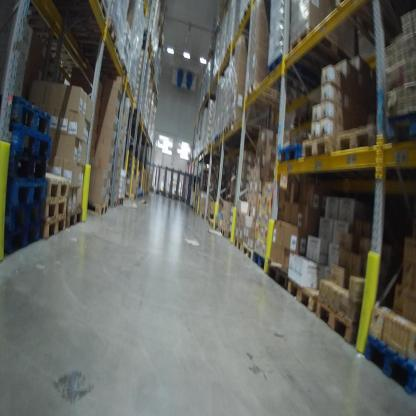pallet: (333, 120, 407, 182), (332, 2, 411, 52), (362, 330, 416, 398), (291, 28, 359, 81), (265, 50, 328, 97), (315, 297, 370, 345), (300, 134, 351, 185), (383, 103, 414, 176), (53, 12, 121, 45), (2, 122, 57, 161), (6, 94, 54, 138), (1, 200, 46, 241), (243, 78, 292, 114), (7, 144, 57, 178), (1, 217, 43, 256), (286, 277, 328, 315), (6, 175, 46, 210), (65, 37, 122, 61), (41, 169, 72, 205), (82, 56, 130, 79), (51, 1, 108, 19), (38, 214, 67, 243), (273, 141, 303, 169), (41, 191, 66, 224), (267, 259, 290, 288), (82, 195, 109, 217), (66, 207, 86, 233), (243, 1, 268, 20), (235, 15, 261, 33), (252, 248, 268, 272), (241, 239, 255, 263), (232, 233, 243, 250), (109, 195, 118, 208), (219, 226, 229, 237), (116, 196, 125, 206)
